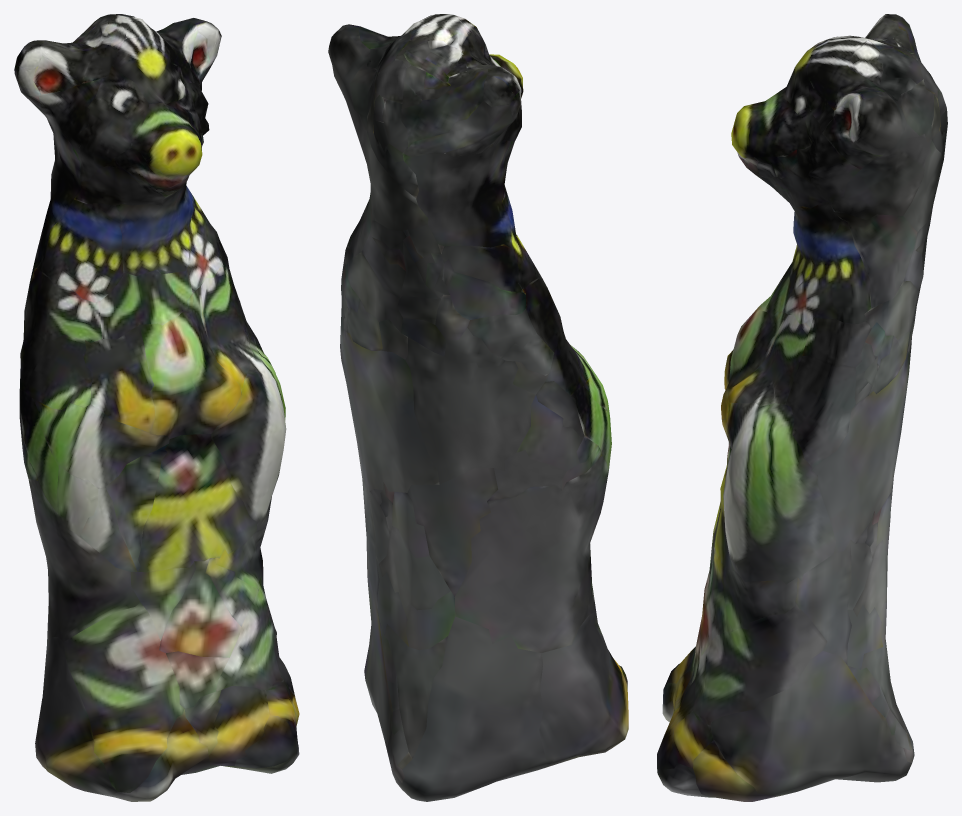
The model's file is hall.glb.
3 views of the same model, side by side, from view 1: azimuth 30°, elevation 25°; view 2: azimuth 150°, elevation 25°; view 3: azimuth 270°, elevation 25° (orthographic). The views are drawn at different scales.
Size of the model in its own units: 0.327 by 0.9206 by 0.3262.
Materials: 1 (1 with a texture image).
